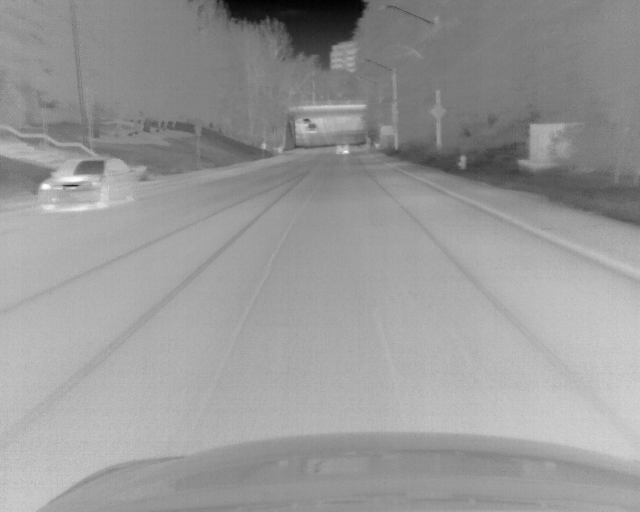car: (37, 156, 138, 211), (336, 142, 350, 156)
